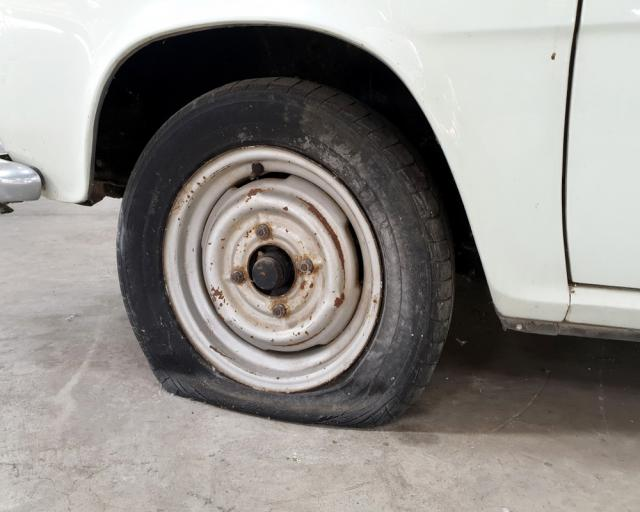tire flat: (117, 73, 456, 427)
